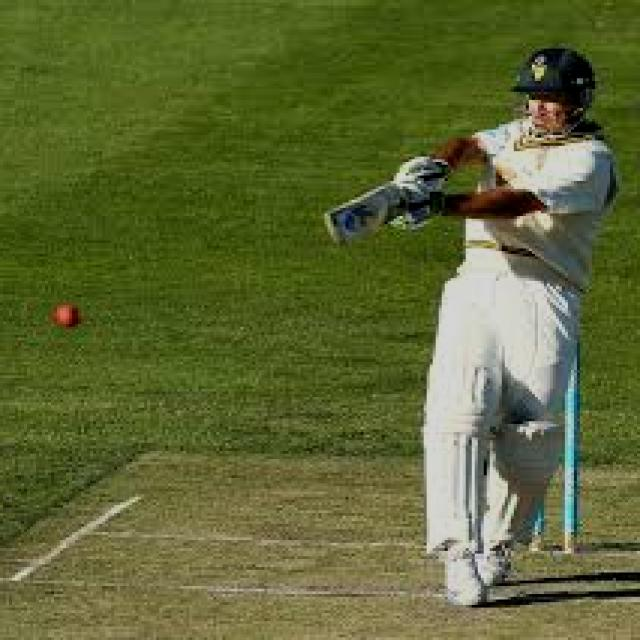toe: (316, 209, 364, 248)
